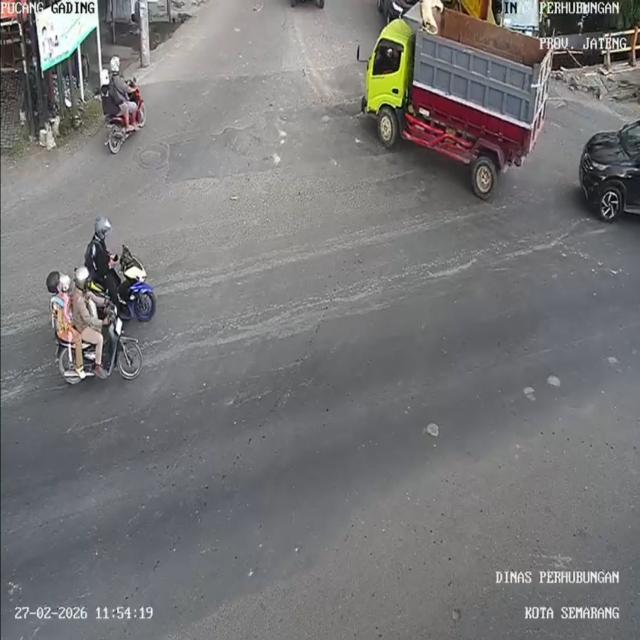motorcycle: (55, 323, 147, 394), (116, 245, 158, 326), (104, 102, 146, 152)
person: (69, 265, 105, 344), (87, 213, 117, 280), (40, 271, 66, 343), (110, 57, 134, 106), (59, 274, 77, 329), (99, 68, 119, 114)
rider_region: (38, 266, 144, 386), (81, 213, 157, 318), (97, 54, 148, 155)
